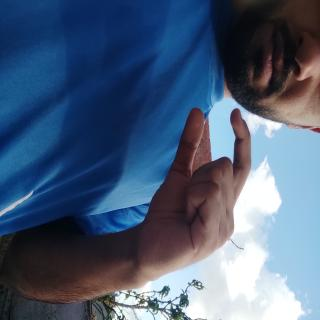DELL: (77, 87, 212, 261)
